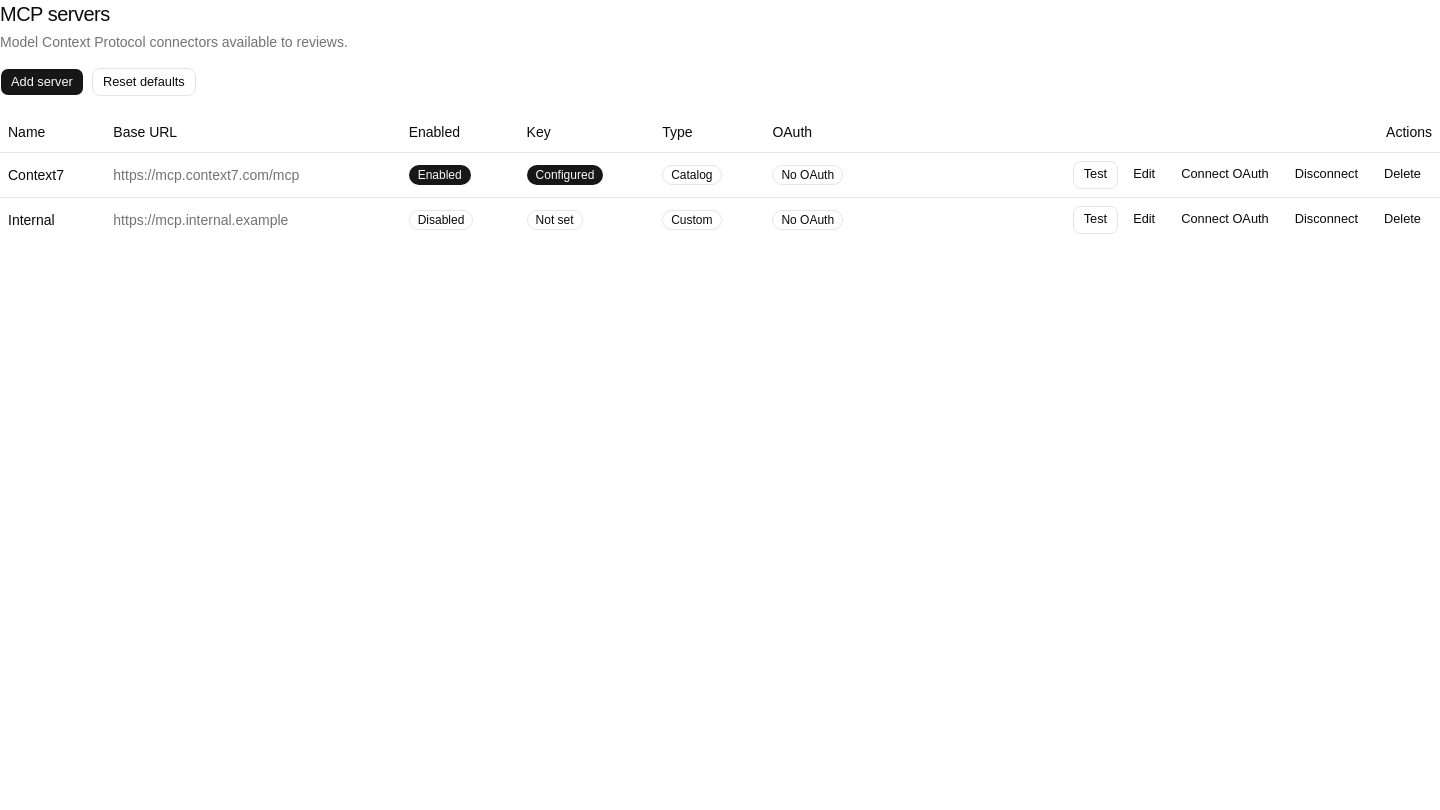
Test: mcp servers › sends the custom base URL and name when editing a custom server
The width and height of the screenshot is (1440, 810).
Later steps or results of the test are not shown.
Click the button with aria-label "Edit Internal".
click(1144, 220)  # box [1122,206,1166,234]
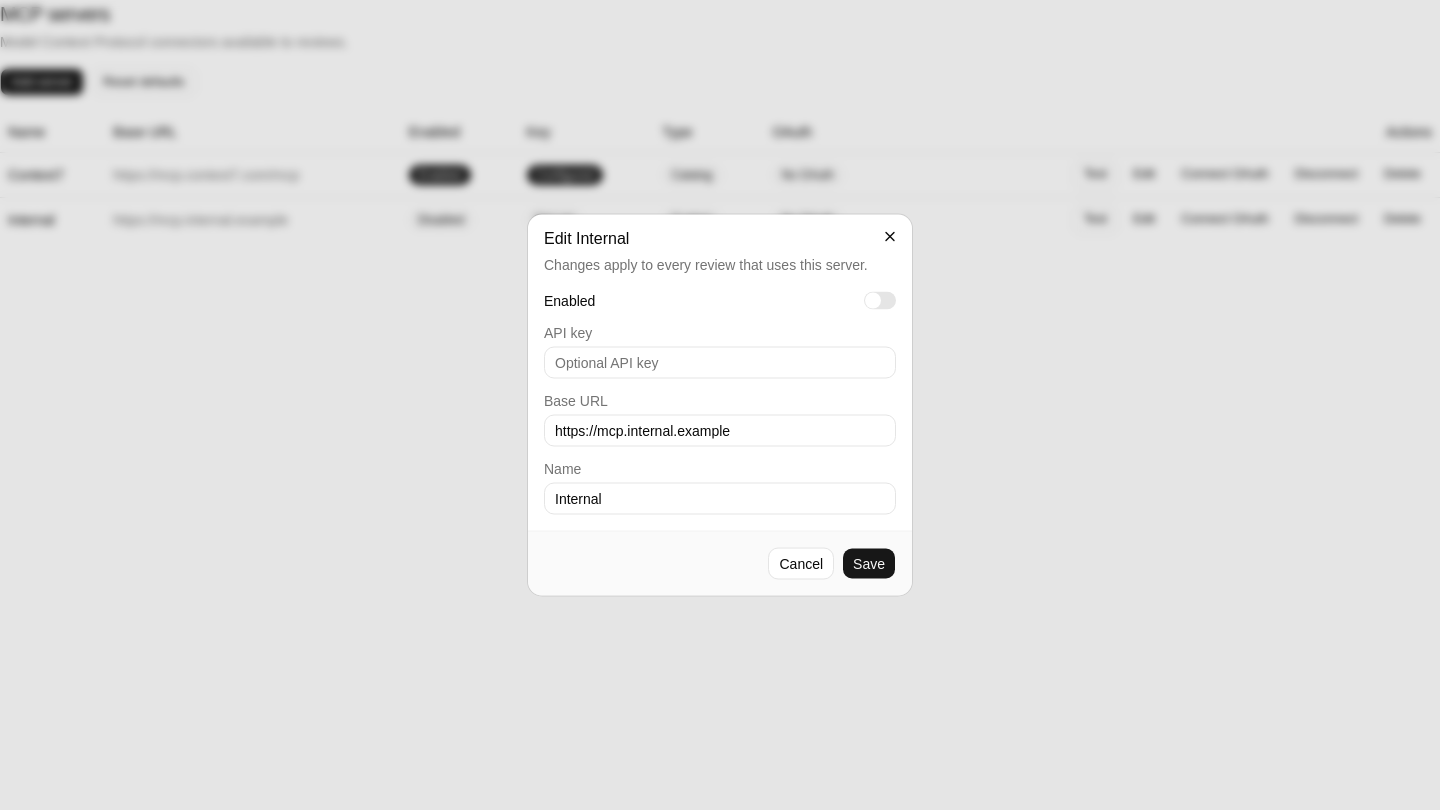
Expected: the field labelled "Base URL" holds "https://mcp.internal.example", [544,414,896,446]
